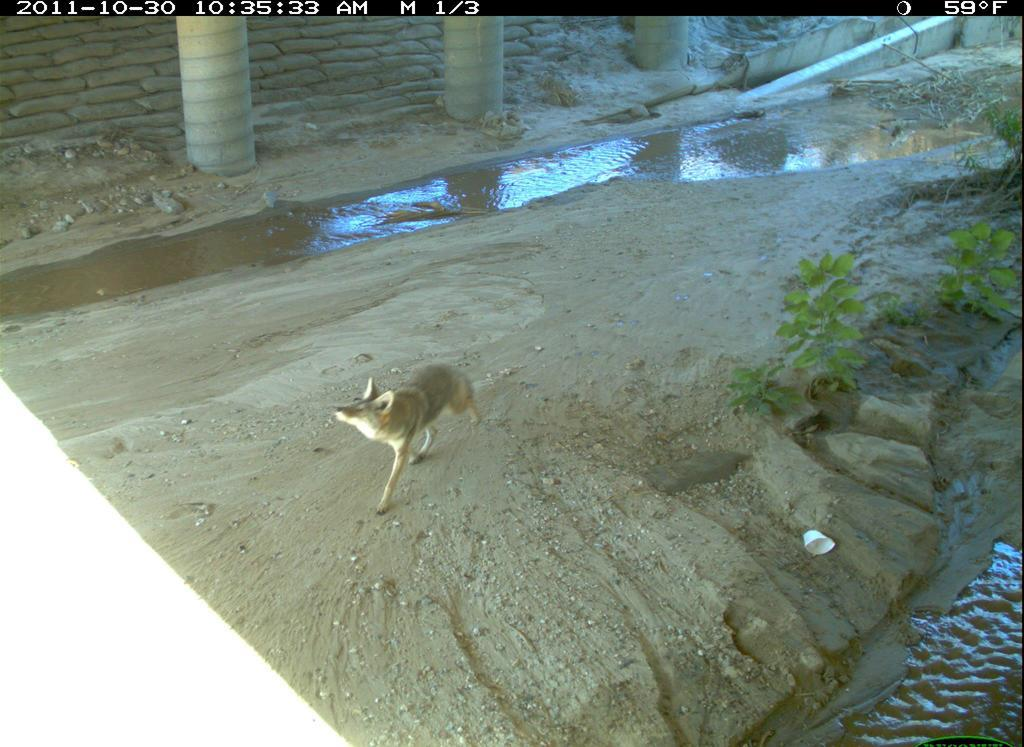coyote: (333, 358, 484, 518)
